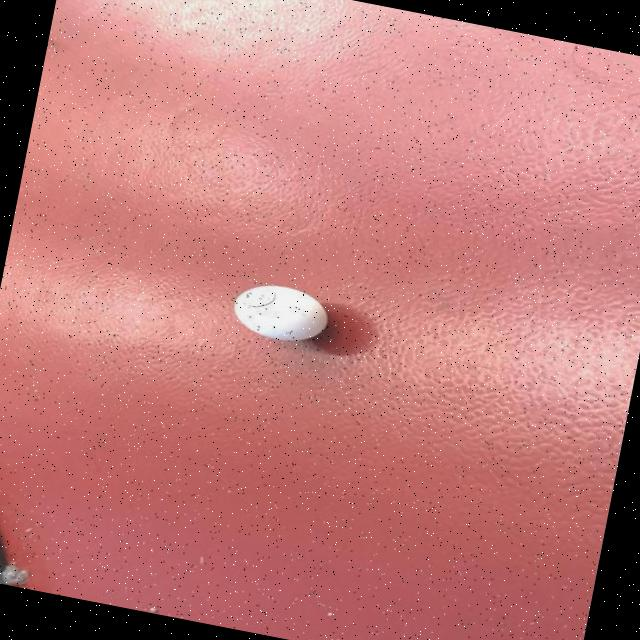ping-pong-ball: (227, 276, 340, 352)
